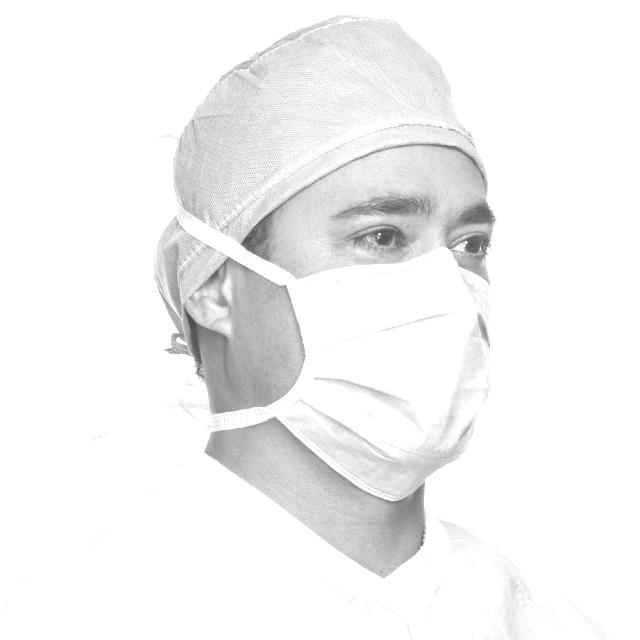fake: (272, 250, 506, 503)
real: (265, 142, 497, 510)
